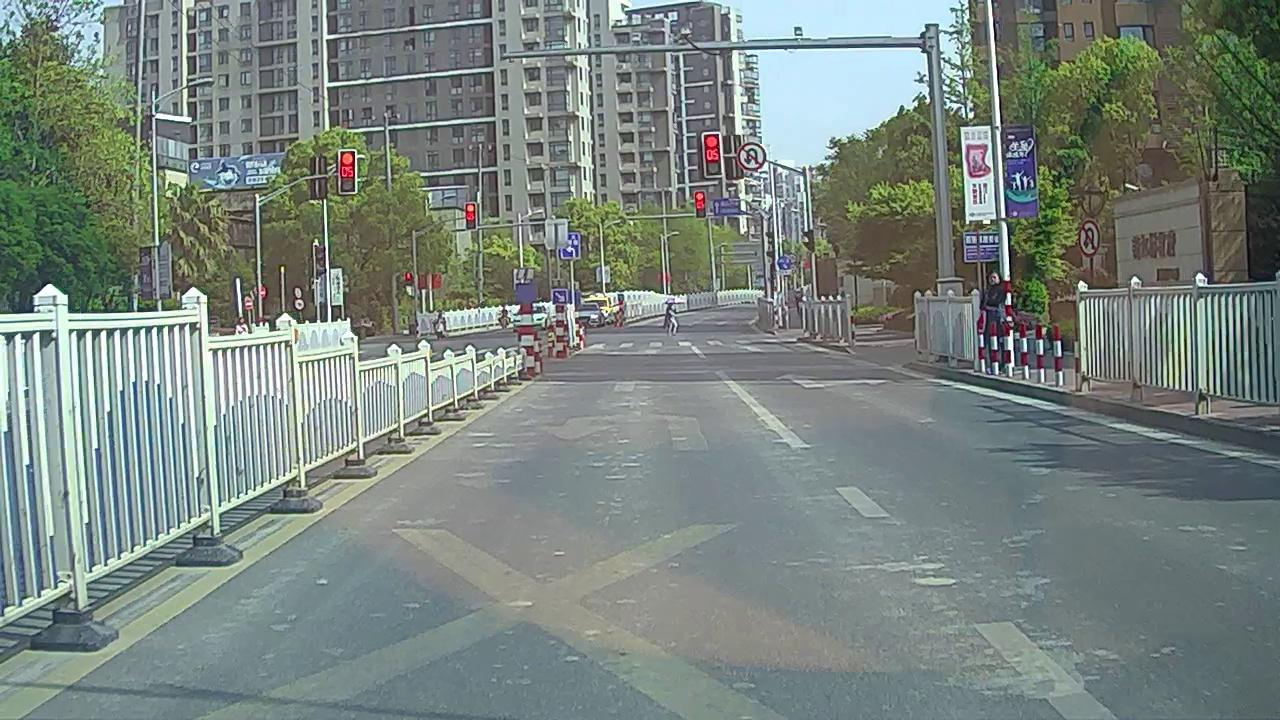traffic_light: (704, 133, 722, 176), (339, 149, 356, 193), (695, 192, 706, 218), (466, 204, 476, 228)
